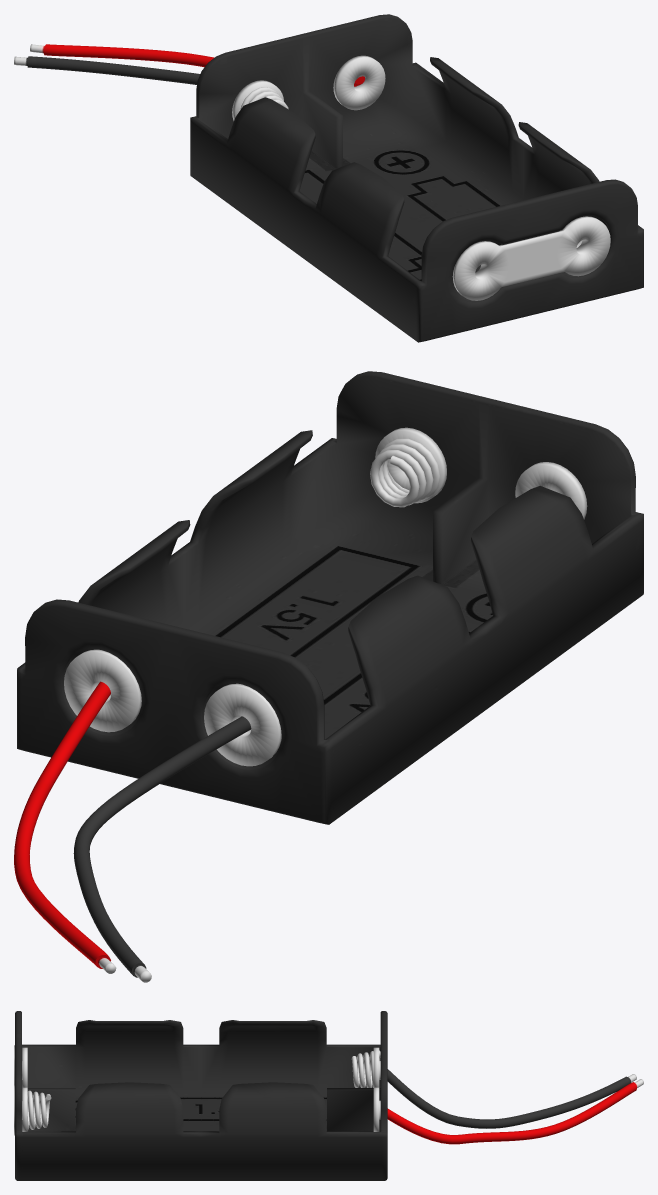
File: battery_container.glb
3 views of the same model, one above another, from view 1: azimuth 30°, elevation 25°; view 2: azimuth 150°, elevation 25°; view 3: azimuth 270°, elevation 25° (orthographic). The views are drawn at different scales.
Visible parts, largest first — view 1: battery_holder_static, battery_spring_contact_B, battery_spring_contact_A; view 2: battery_holder_static, battery_spring_contact_B, battery_spring_contact_A; view 3: battery_holder_static, battery_spring_contact_A, battery_spring_contact_B.
Boxes of the visible parts, x1,y1,x2,y2 form: battery_holder_static: [14, 14, 643, 342]; battery_spring_contact_B: [27, 56, 200, 84]; battery_spring_contact_A: [43, 44, 360, 86]; battery_holder_static: [17, 371, 643, 982]; battery_spring_contact_B: [73, 716, 251, 974]; battery_spring_contact_A: [14, 681, 110, 966]; battery_holder_static: [14, 1011, 643, 1180]; battery_spring_contact_A: [387, 1082, 636, 1144]; battery_spring_contact_B: [387, 1069, 630, 1128].
Size of the model in its own units: 3.72 by 1.63 by 10.05.
Materials: 1 (1 with a texture image).
